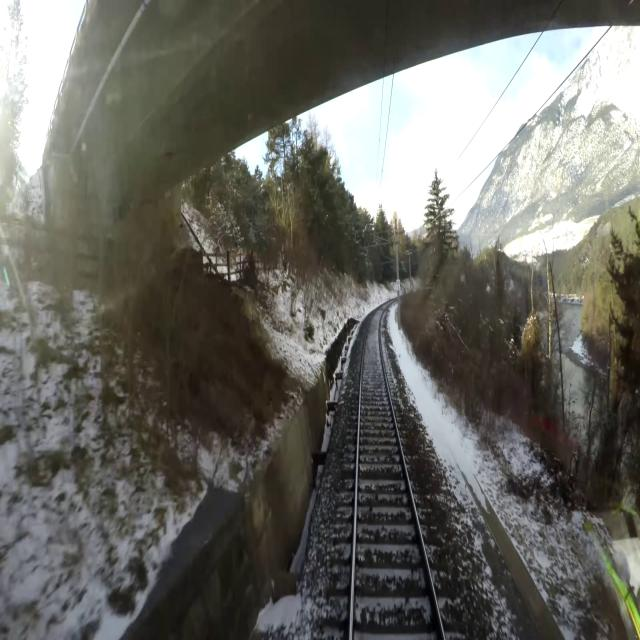rail-track: (354, 303, 442, 639)
